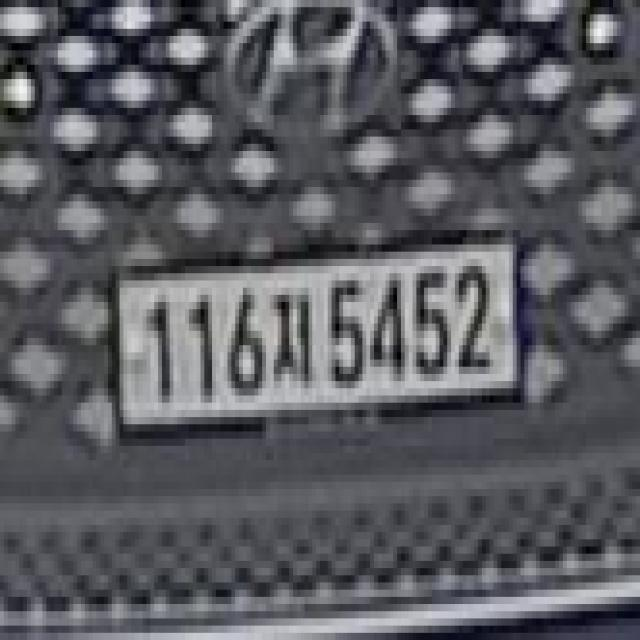illegal_plate: (110, 229, 527, 449)
